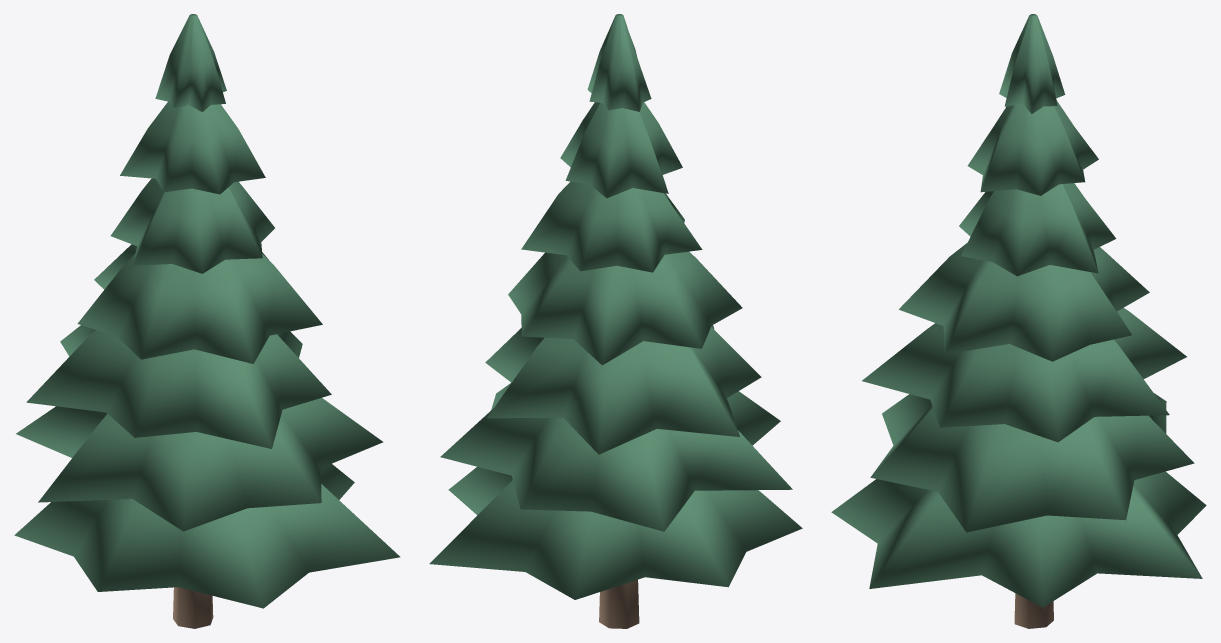
Rendered from snowy_pine.glb.
3 views of the same model, side by side, from view 1: azimuth 30°, elevation 25°; view 2: azimuth 150°, elevation 25°; view 3: azimuth 270°, elevation 25° (orthographic).
Visible parts, largest first — view 1: snowy_pine; view 2: snowy_pine; view 3: snowy_pine.
Part boxes in pixels (x1,y1,x2,y2): snowy_pine: [14, 14, 400, 628]; snowy_pine: [429, 14, 802, 628]; snowy_pine: [831, 14, 1206, 628].
Bounding box in the file's own units: 3.13 × 5.47 × 3.08.
